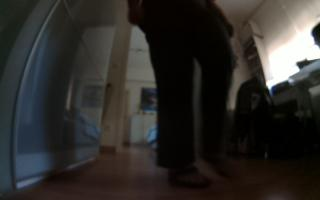person: (123, 1, 252, 193)
